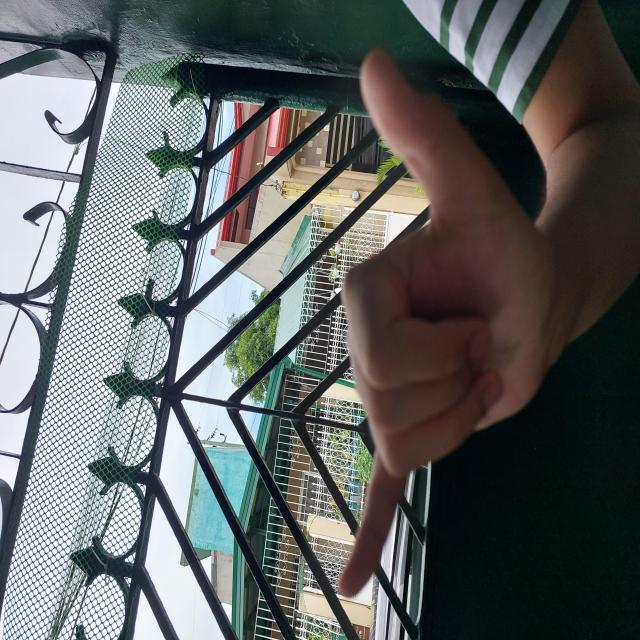Y: (252, 45, 616, 624)
